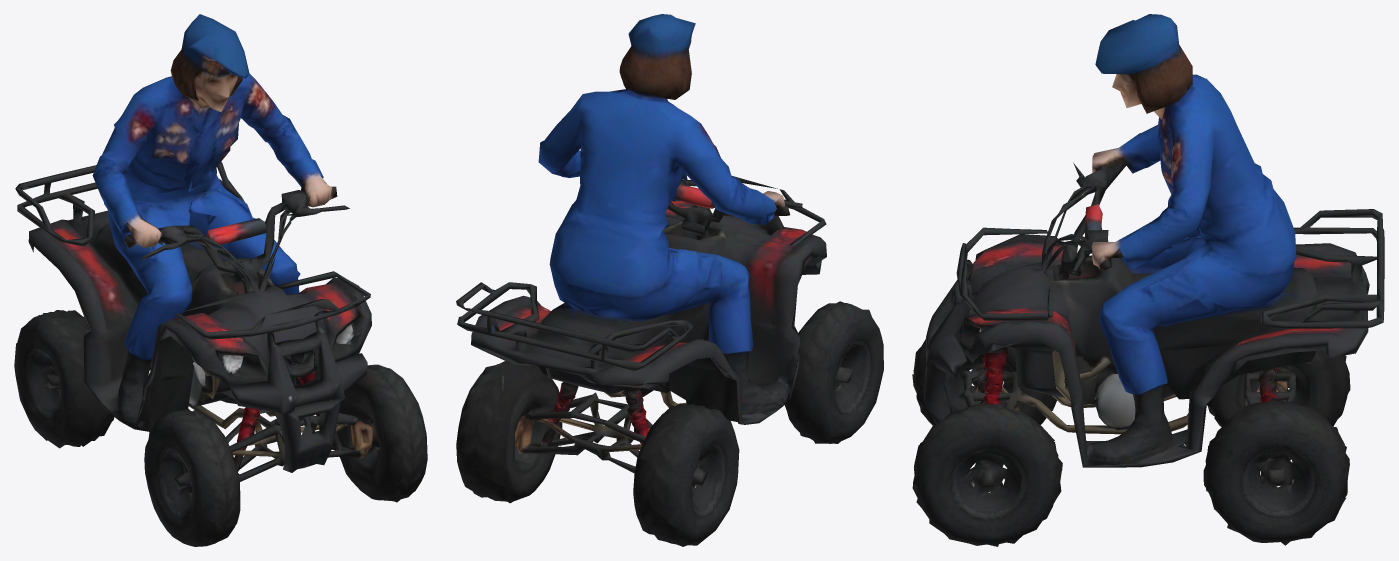
Rendered from polwan_atv.glb.
3 views of the same model, side by side, from view 1: azimuth 30°, elevation 25°; view 2: azimuth 150°, elevation 25°; view 3: azimuth 270°, elevation 25° (orthographic). The views are drawn at different scales.
Visible parts, largest first — view 1: tripo_node_9608bba5-029d-4360-9874-f094d58f642a; view 2: tripo_node_9608bba5-029d-4360-9874-f094d58f642a; view 3: tripo_node_9608bba5-029d-4360-9874-f094d58f642a.
Boxes of the visible parts, bbox=[...] form: tripo_node_9608bba5-029d-4360-9874-f094d58f642a: bbox=[14, 14, 427, 546]; tripo_node_9608bba5-029d-4360-9874-f094d58f642a: bbox=[456, 14, 883, 546]; tripo_node_9608bba5-029d-4360-9874-f094d58f642a: bbox=[912, 14, 1384, 546].
Size of the model in its own units: 0.54 by 1 by 0.8982.
Materials: 1 (1 with a texture image).
